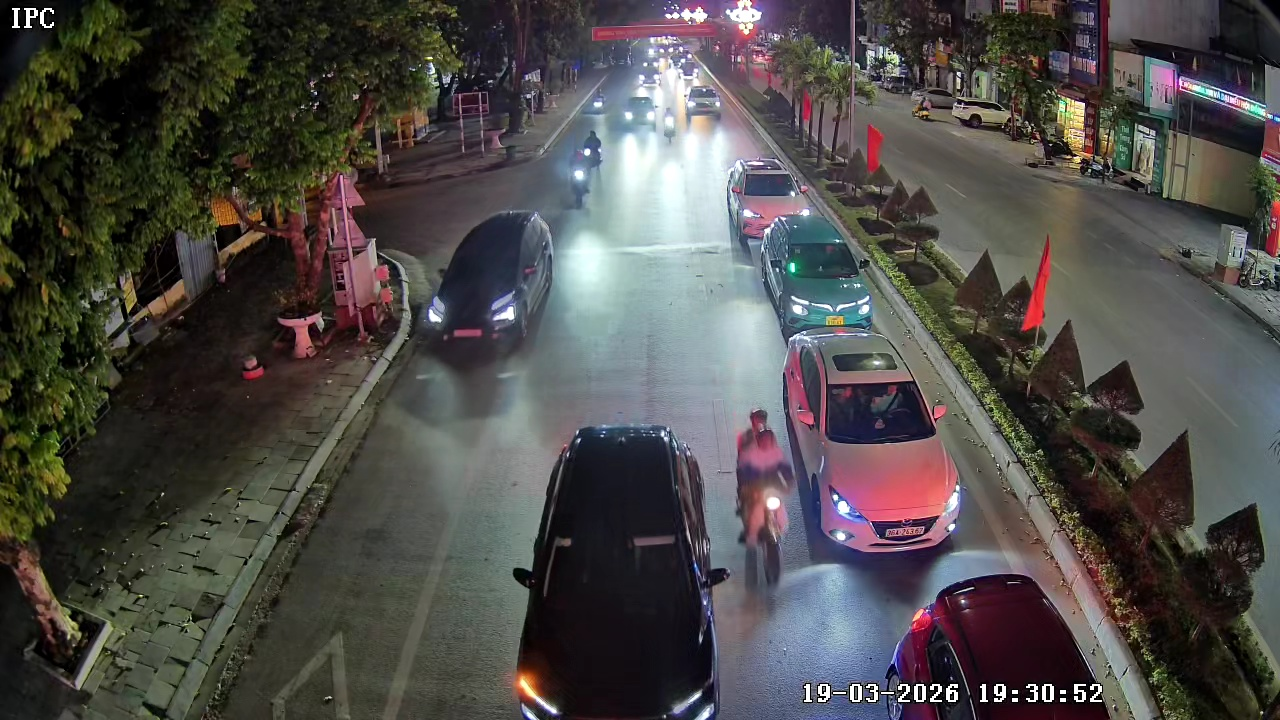car: (512, 422, 731, 719), (762, 331, 962, 565), (872, 572, 1110, 719), (430, 209, 556, 357), (759, 211, 875, 336), (723, 157, 812, 250), (681, 79, 730, 122), (623, 91, 658, 135)
motorbike: (726, 399, 809, 598), (659, 109, 684, 143)
